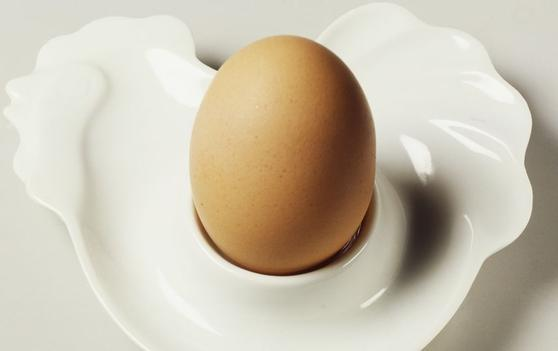egg: (190, 35, 378, 275)
